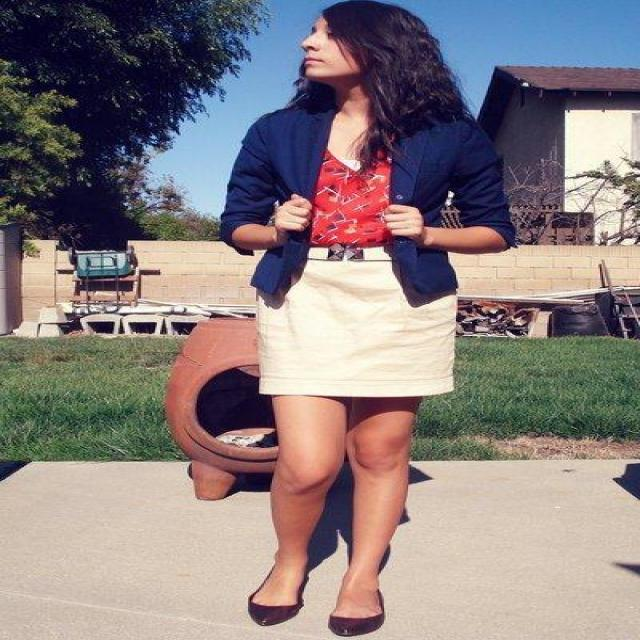jacket: (213, 93, 536, 308)
pants: (280, 576, 307, 619)
shirt: (306, 146, 402, 261)
shoe: (248, 589, 384, 636)
skirt: (256, 246, 488, 396)
